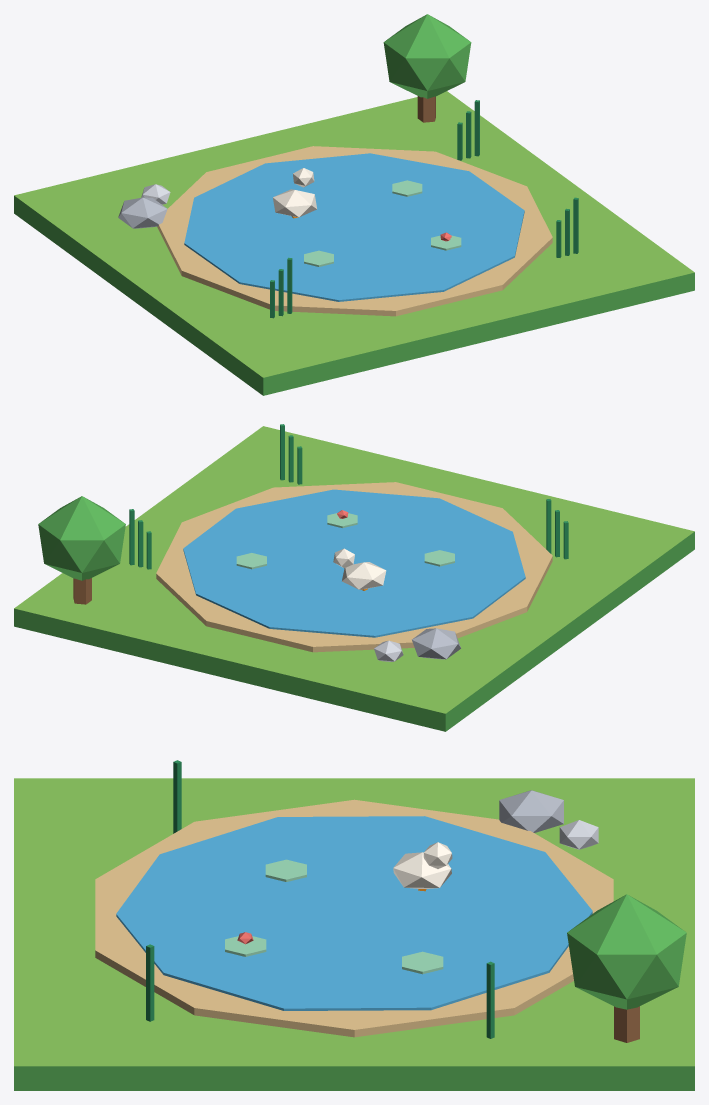
The model's file is park_pond.glb.
The picture shows the model from 3 angles, top to bottom: view 1: azimuth 30°, elevation 25°; view 2: azimuth 150°, elevation 25°; view 3: azimuth 270°, elevation 25°; orthographic projection. The views are drawn at different scales.
Visible parts, largest first — view 1: park_pond; view 2: park_pond; view 3: park_pond.
Boxes of the visible parts, box(x1,y1,x2,y2) form: park_pond: box(14, 14, 694, 395); park_pond: box(14, 424, 694, 731); park_pond: box(14, 760, 694, 1090).
Size of the model in its own units: 1 by 0.272 by 1.
